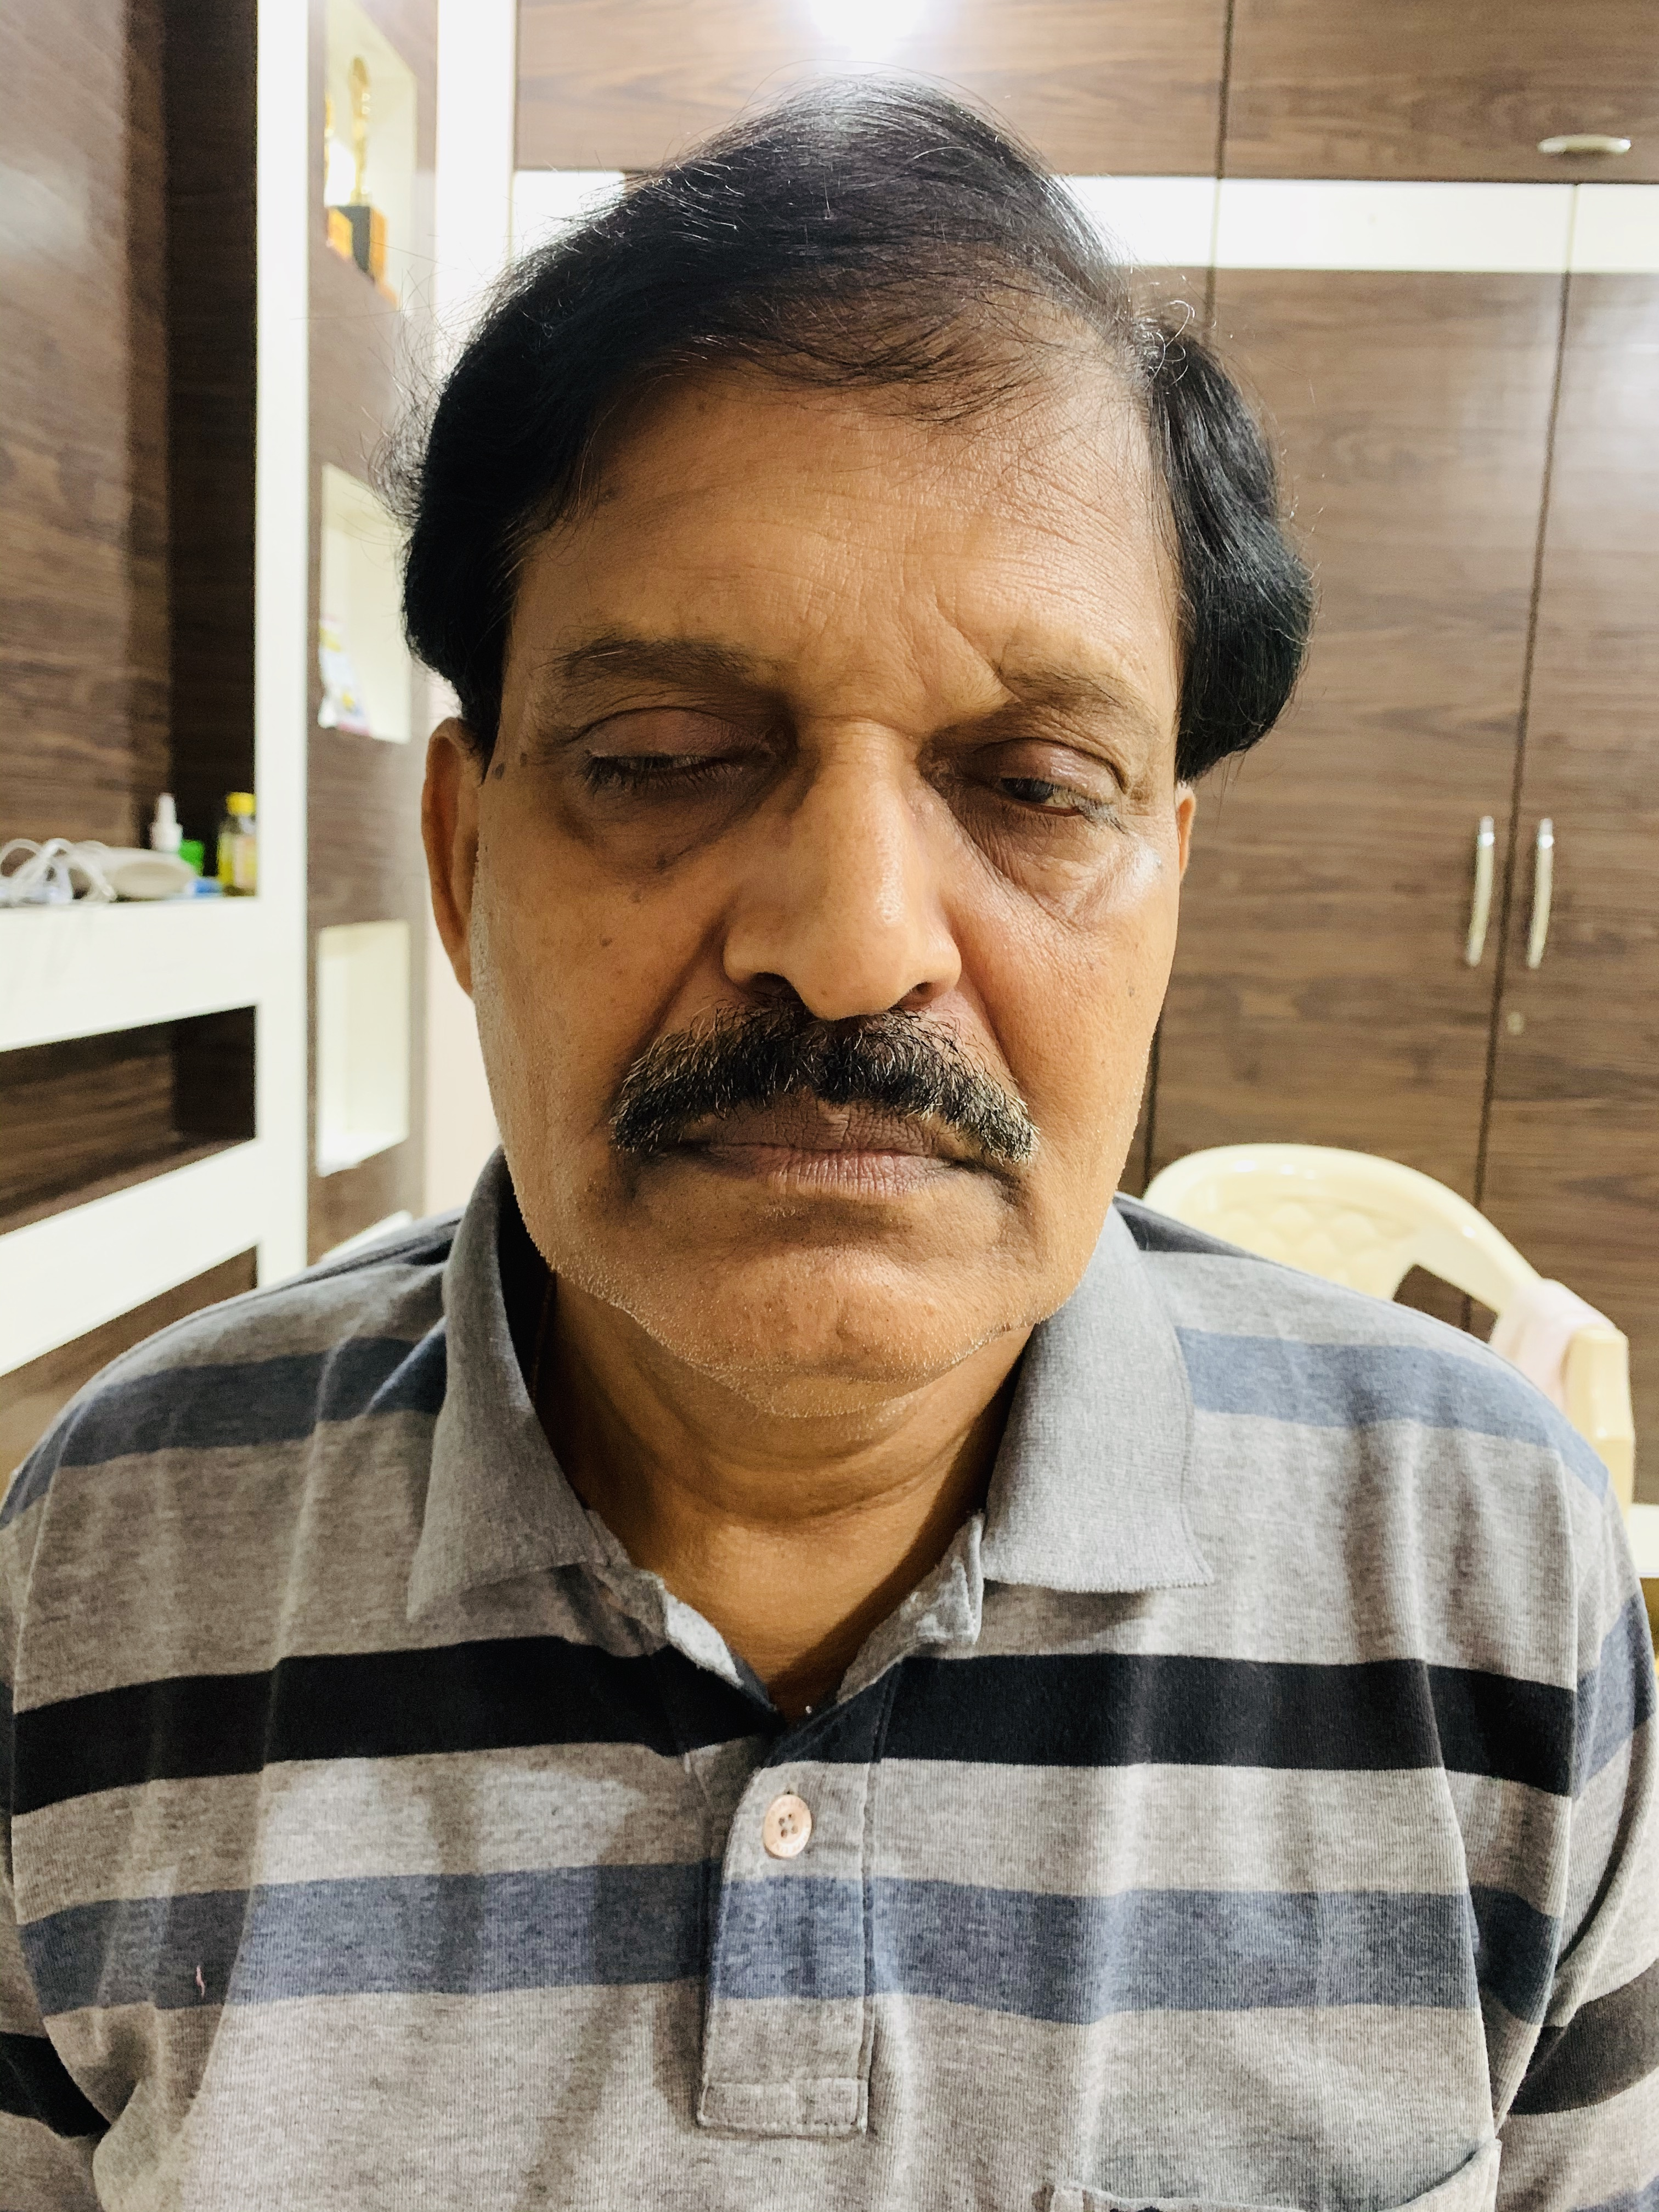Sleeping: (528, 683, 1209, 867)
